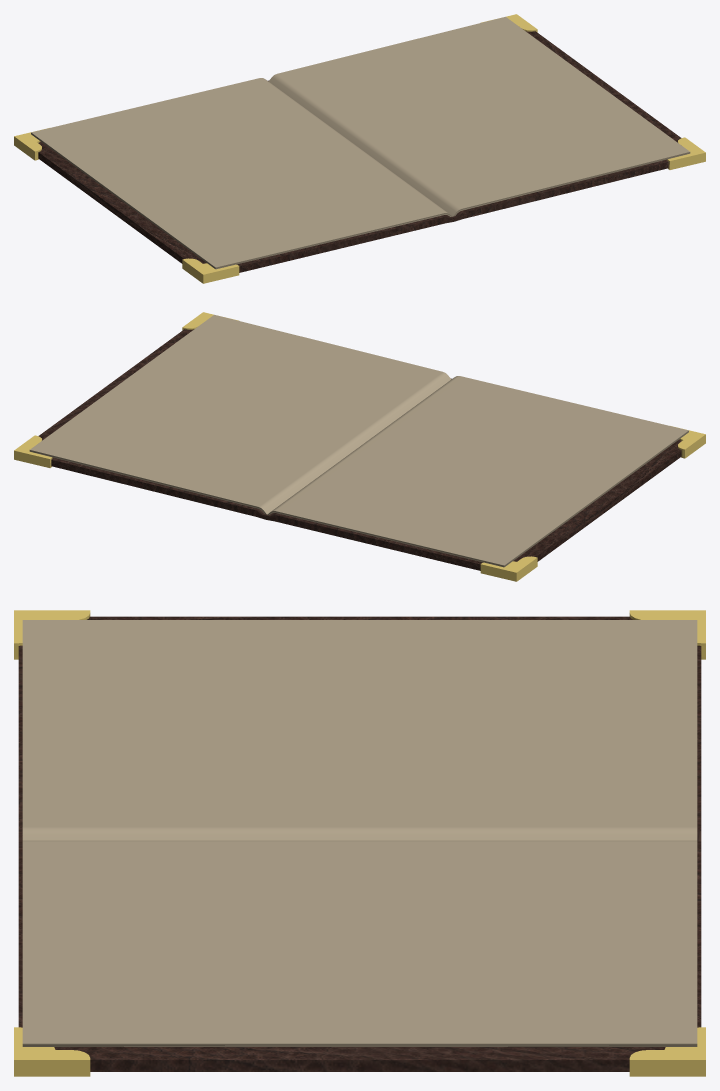
Rendered from BookOpen.fbx.
3 views of the same model, one above another, from view 1: azimuth 30°, elevation 25°; view 2: azimuth 150°, elevation 25°; view 3: azimuth 270°, elevation 25° (orthographic). The views are drawn at different scales.
Visible parts, largest first — view 1: Pages1, Pages, BookOpen_BookCover, Corner4, Corner9, Corner7; view 2: Pages1, Pages, BookOpen_BookCover, Corner7, Corner8, Corner4; view 3: Pages, Pages1, BookOpen_BookCover, Corner8, Corner9, Corner7, Corner4.
Boxes of the visible parts, x1=… form: Pages1: x1=268, y1=16, x2=690, y2=216; Pages: x1=31, y1=78, x2=452, y2=269; BookOpen_BookCover: x1=38, y1=31, x2=681, y2=272; Corner4: x1=182, y1=258, x2=239, y2=283; Corner9: x1=667, y1=137, x2=705, y2=169; Corner7: x1=14, y1=128, x2=48, y2=160; Pages1: x1=29, y1=314, x2=451, y2=514; Pages: x1=267, y1=376, x2=688, y2=567; BookOpen_BookCover: x1=38, y1=329, x2=681, y2=570; Corner7: x1=480, y1=556, x2=537, y2=581; Corner8: x1=14, y1=435, x2=52, y2=467; Corner4: x1=671, y1=426, x2=705, y2=458; Pages: x1=22, y1=620, x2=697, y2=840; Pages1: x1=22, y1=840, x2=697, y2=1046; BookOpen_BookCover: x1=18, y1=616, x2=701, y2=1071; Corner8: x1=629, y1=1027, x2=705, y2=1076; Corner9: x1=14, y1=1027, x2=90, y2=1076; Corner7: x1=629, y1=610, x2=705, y2=659; Corner4: x1=14, y1=610, x2=90, y2=659.
Size of the model in its own units: 48.81 by 1.07 by 31.81.
Materials: 1 (1 with a texture image).
